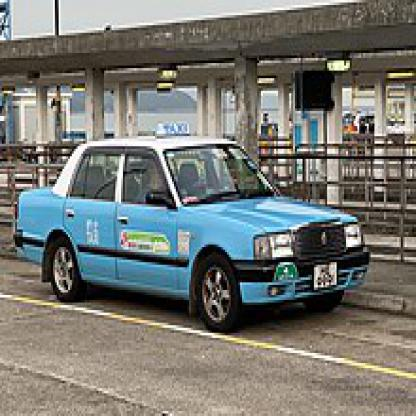taxi: (15, 122, 376, 336)
